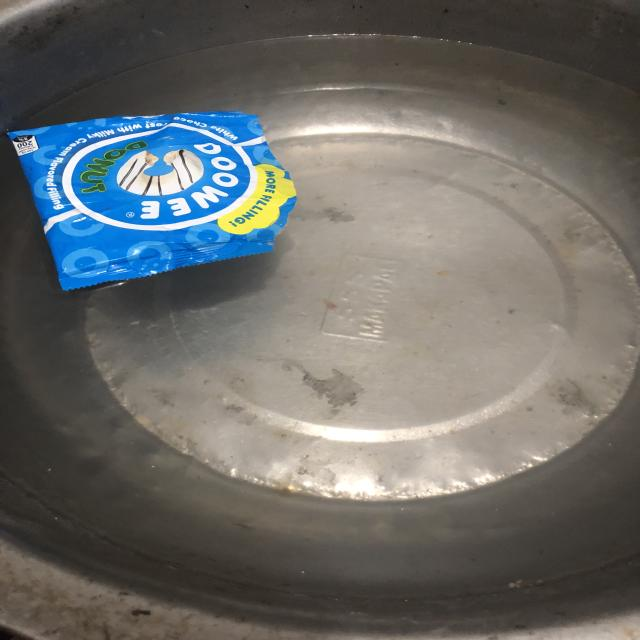Plastic Wrapper: (0, 84, 326, 311)
